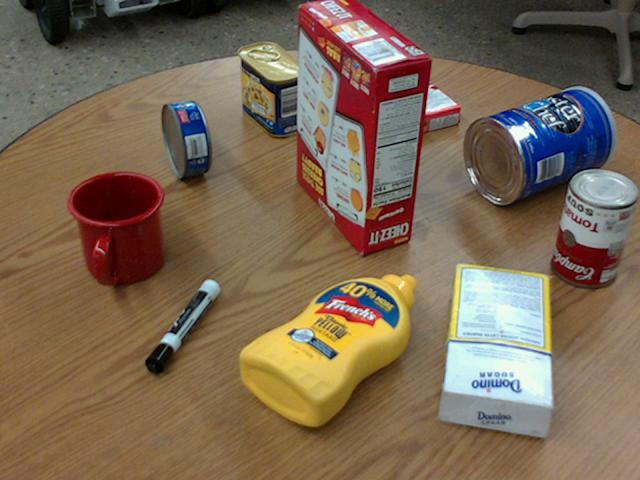cracker_box: (294, 0, 430, 253)
gelatin_box: (377, 78, 459, 134)
large_marker: (144, 279, 218, 373)
master_chef_can: (462, 86, 613, 203)
mug: (67, 172, 164, 286)
mustard_bottle: (238, 273, 415, 427)
potted_meat_can: (236, 42, 306, 136)
sugar_box: (439, 263, 554, 436)
tomato_soup_can: (550, 166, 636, 285)
tuna_fish_can: (161, 101, 209, 177)
